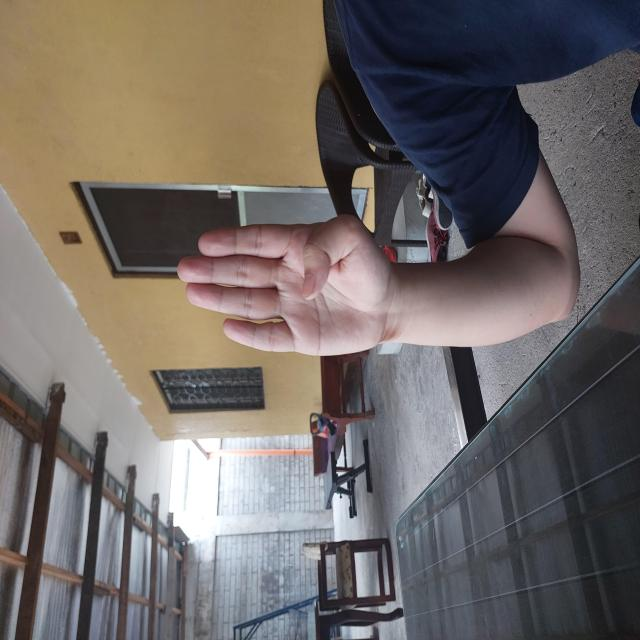B: (281, 174, 430, 399)
